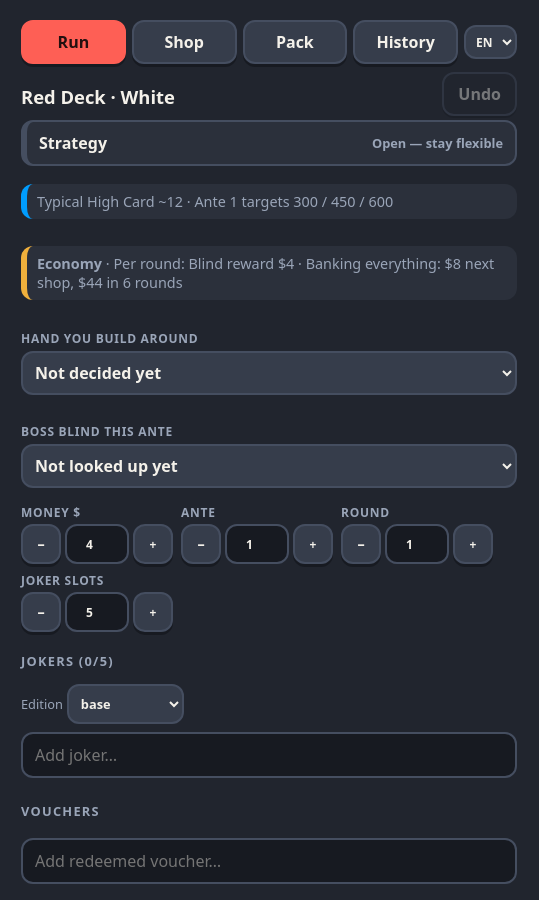
Test case: keeps pack options when switching tabs
The image size is (539, 900).
Click the button "Pack". click: [295, 42]
box: [242,20,347,64]
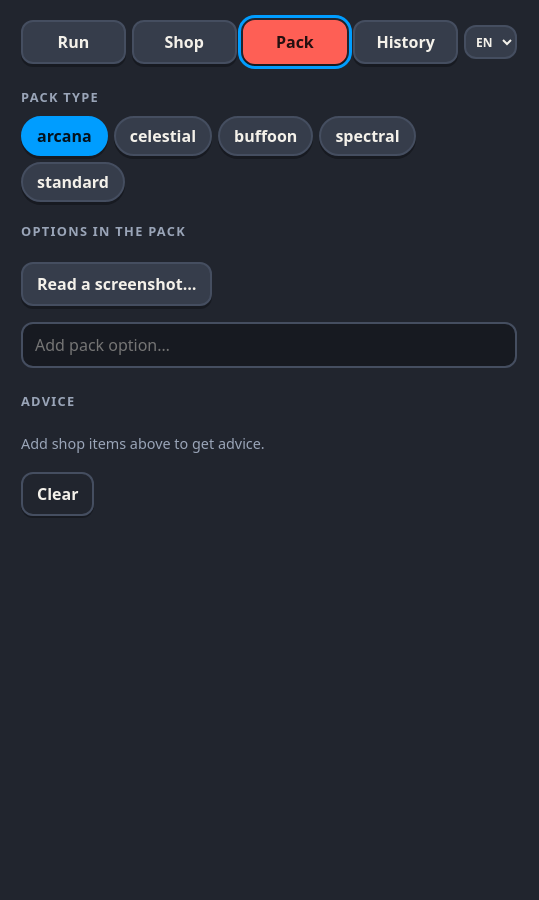
Click the button "celestial". click: [163, 136]
box: [114,116,212,156]
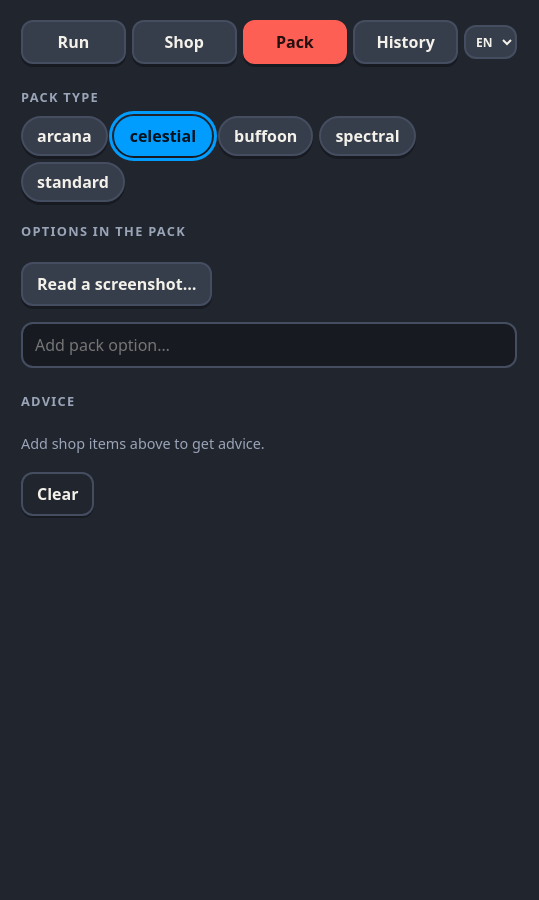
Type "jup" into the dropdown with placeholder "Add pack option…". click: [269, 345]
box: [21,322,517,368]
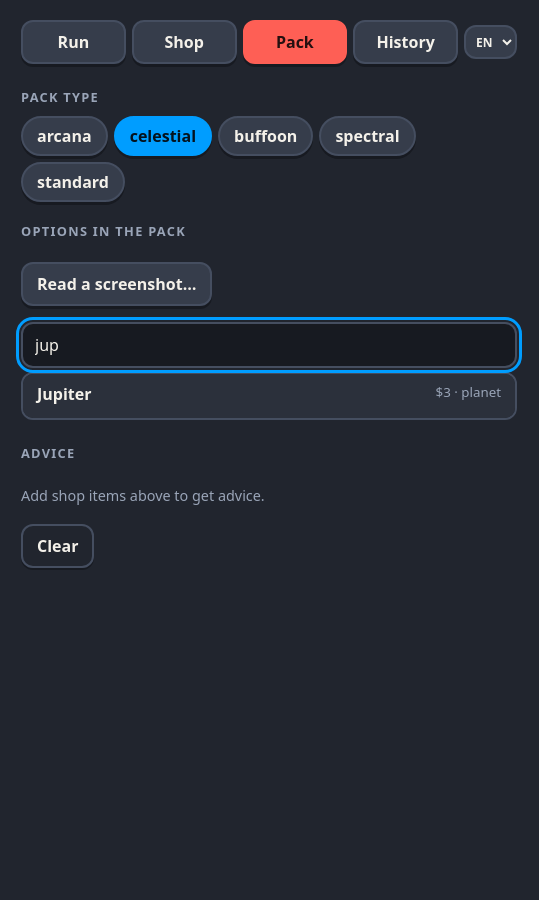
Click the button "Jupiter $3 · planet". click: [64, 394]
box: [23,374,515,418]
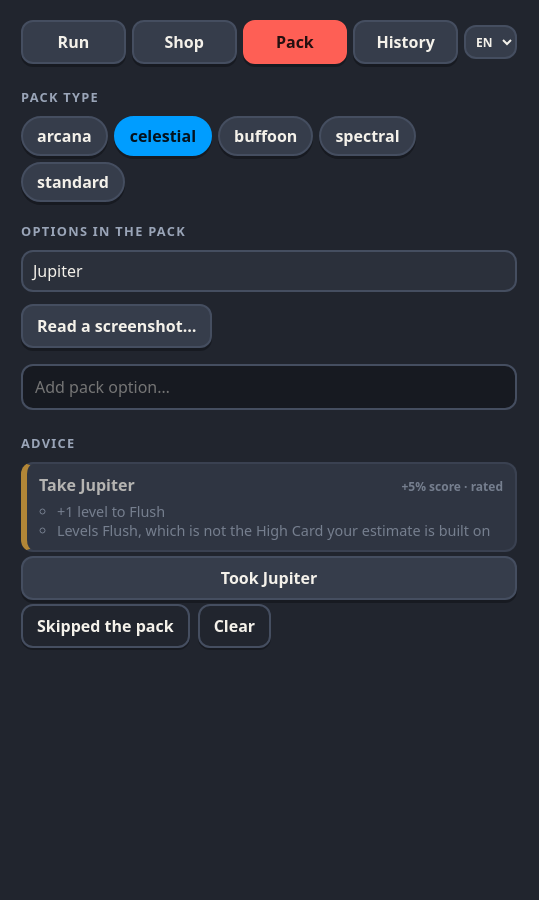
Click the button "Run". click: [73, 42]
box: [21,20,126,64]
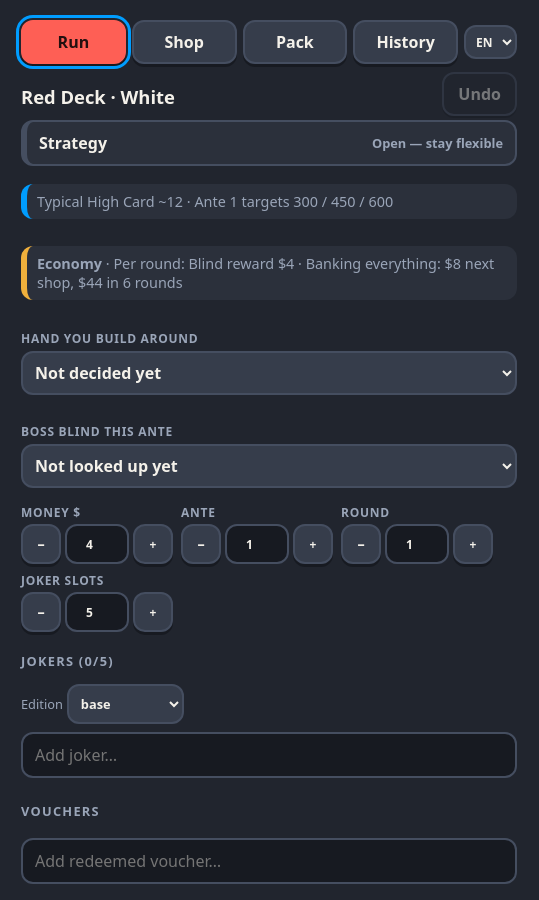
Click the button "Pack". click: [295, 42]
box: [242,20,347,64]
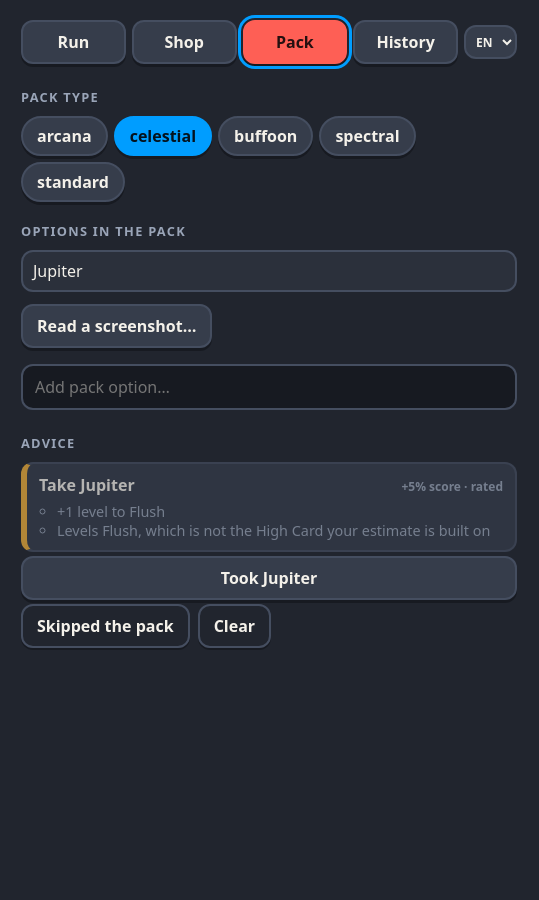
Result: the button "Took Jupiter" is shown at [21,556,517,600]
